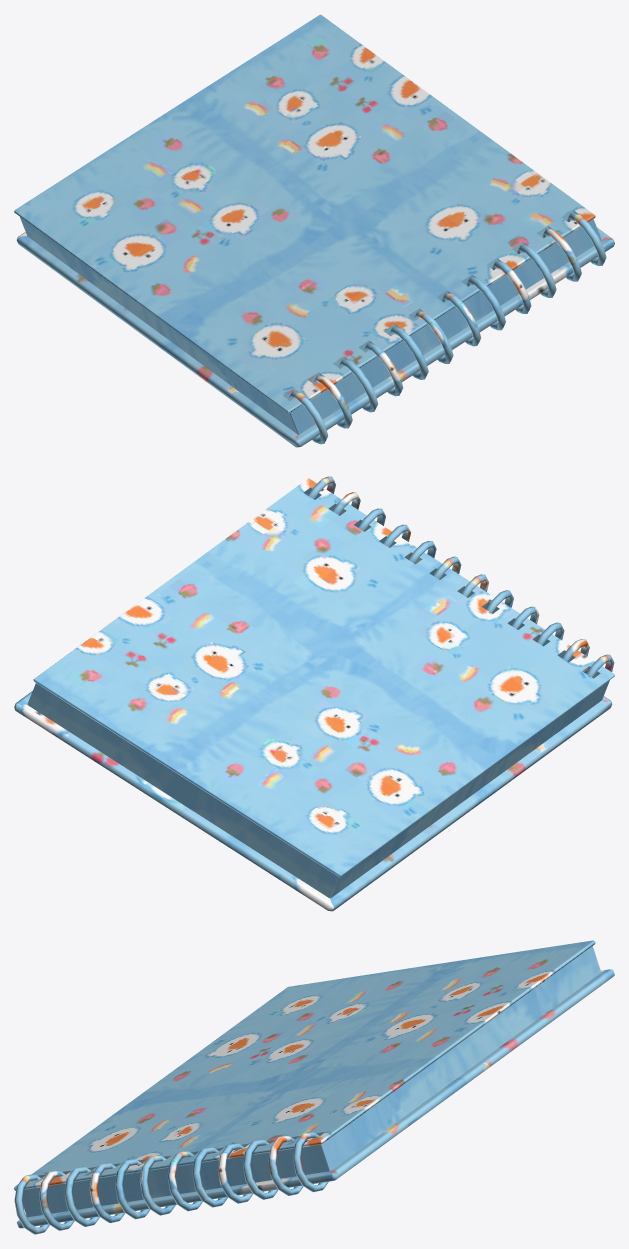
The model's file is ref_gtstickerbook.fbx.
The picture shows the model from 3 angles, top to bottom: view 1: azimuth 30°, elevation 25°; view 2: azimuth 150°, elevation 25°; view 3: azimuth 330°, elevation 25°; orthographic projection.
Parts seen in each view (by area): view 1: ref_gtstickerbook; view 2: ref_gtstickerbook; view 3: ref_gtstickerbook.
Part boxes in pixels (left/top/right/bottom): ref_gtstickerbook: left=14, top=14, right=614, bottom=447; ref_gtstickerbook: left=14, top=476, right=614, bottom=911; ref_gtstickerbook: left=14, top=940, right=614, bottom=1234.
Size of the model in its own units: 64.06 by 30.61 by 100.
